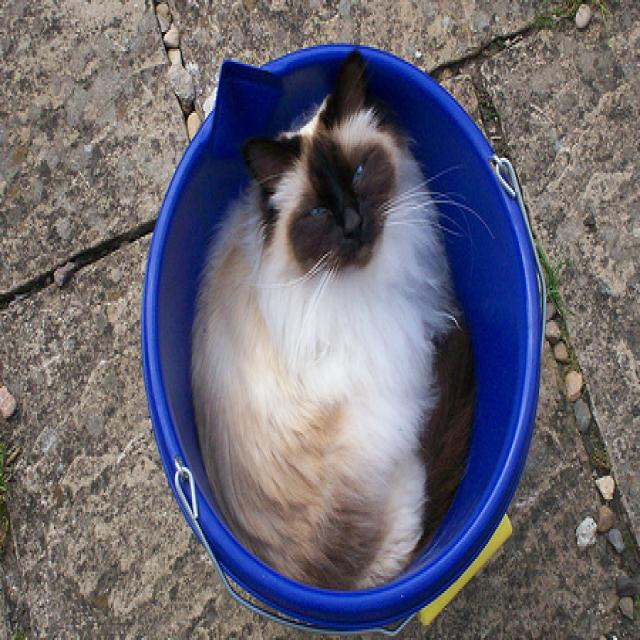Birman: (186, 42, 480, 602)
